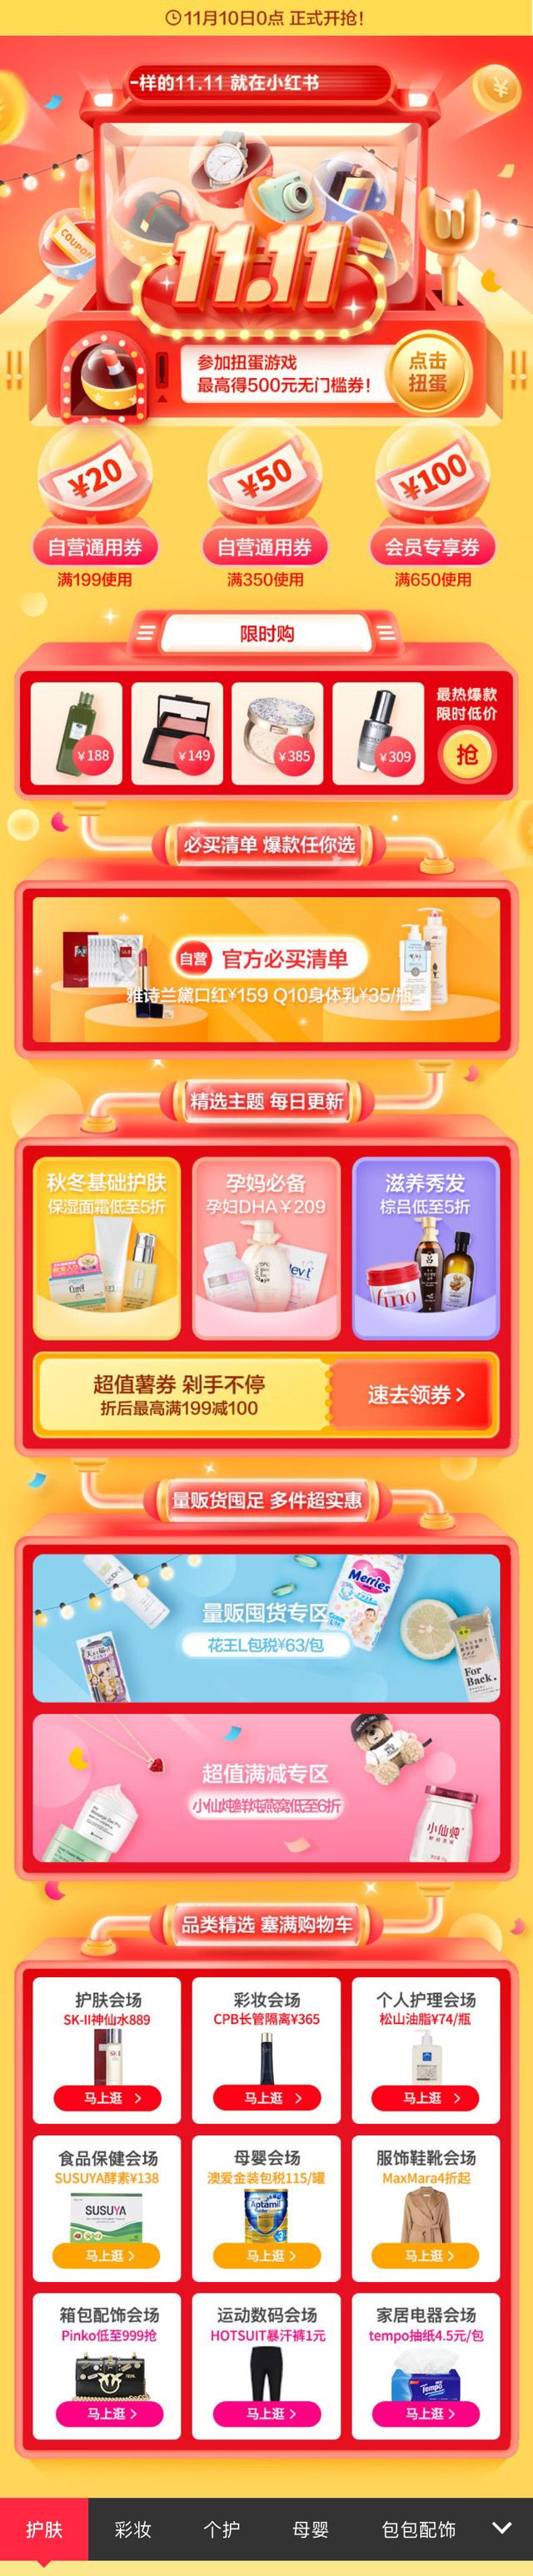floors: (2, 1904, 533, 2461), (2, 1480, 533, 1881), (2, 1079, 533, 1459), (2, 823, 533, 1061), (2, 611, 533, 800), (2, 424, 533, 593)
toutu: (2, 2, 533, 421)
